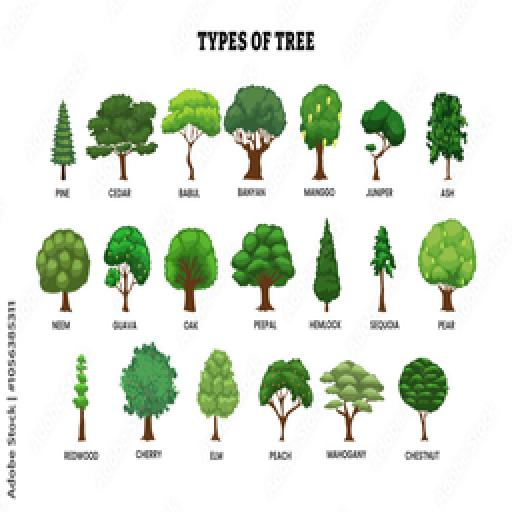trees: (224, 84, 288, 180), (120, 342, 180, 444), (86, 94, 156, 180), (416, 218, 478, 314), (230, 222, 296, 312), (160, 88, 222, 180), (320, 360, 386, 444), (34, 226, 92, 314), (258, 358, 314, 444), (164, 226, 218, 314), (398, 356, 450, 444), (298, 84, 344, 180), (196, 348, 242, 444), (104, 230, 152, 314), (426, 92, 470, 182), (360, 98, 406, 180), (310, 216, 342, 314), (368, 222, 400, 314), (50, 100, 78, 180), (70, 352, 92, 444)
